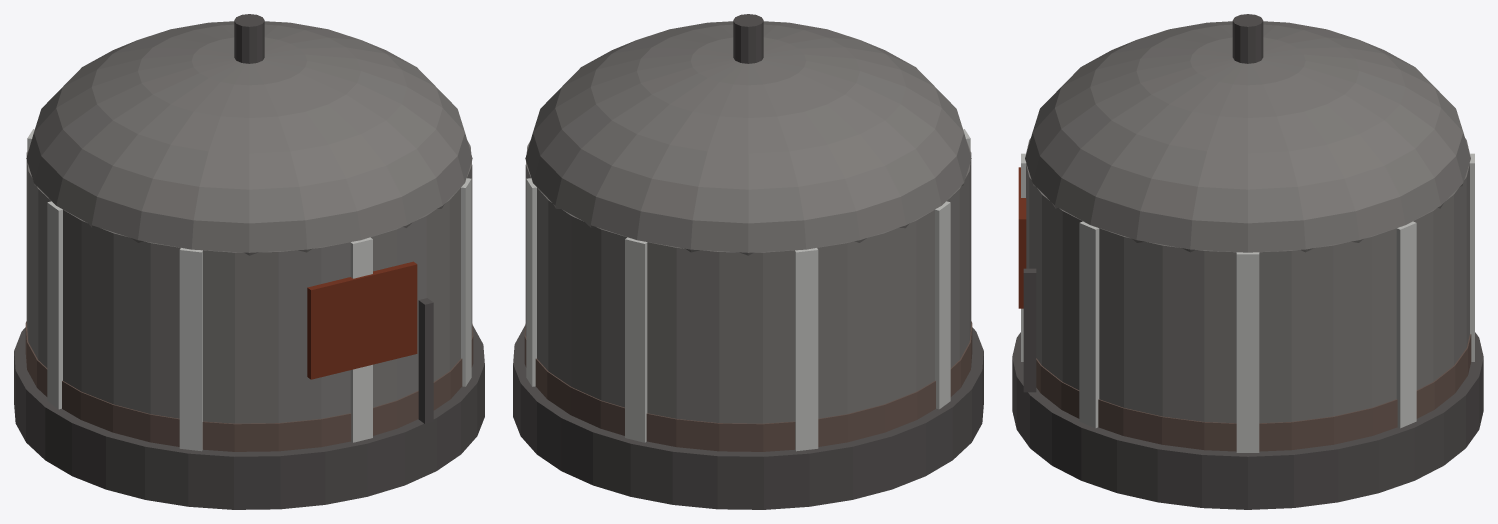
The model's file is storage_tank_2_kiln.glb.
3 views of the same model, side by side, from view 1: azimuth 30°, elevation 25°; view 2: azimuth 150°, elevation 25°; view 3: azimuth 270°, elevation 25° (orthographic).
Visible parts, largest first — view 1: Sphere, Cylinder.001, Cylinder, Cylinder.002, Cube.008, Cube.005, Cube.004, Cube.006, Cube.007, Cube.009, Cylinder.003; view 2: Sphere, Cylinder.001, Cylinder, Cylinder.002, Cube.003, Cube.002, Cube.004, Cube.001, Cylinder.003; view 3: Sphere, Cylinder.001, Cylinder, Cylinder.002, Cube, Cube.001, Cube.007, Cube.009, Cylinder.003, Cube.002, Cube.008.
Part boxes in pixels (x1,y1,x2,y2): Sphere: (26,21,472,255); Cylinder.001: (26,141,472,423); Cylinder: (14,325,484,509); Cylinder.002: (25,321,473,451); Cube.008: (307,261,417,379); Cube.005: (179,248,202,451); Cube.004: (47,201,62,409); Cube.006: (350,237,372,442); Cube.007: (461,178,471,386); Cube.009: (418,298,433,423); Cylinder.003: (234,14,264,63); Sphere: (525,21,971,255); Cylinder.001: (525,141,971,423); Cylinder: (513,325,983,509); Cylinder.002: (524,321,972,451); Cube.003: (795,248,818,451); Cube.002: (625,237,647,442); Cube.004: (935,201,950,409); Cube.001: (526,178,536,386); Cylinder.003: (733,14,763,63); Sphere: (1025,21,1470,252); Cylinder.001: (1026,138,1469,423); Cylinder: (1012,332,1483,509); Cylinder.002: (1036,334,1471,451); Cube: (1236,252,1259,452); Cube.001: (1396,221,1416,428); Cube.007: (1079,221,1099,428); Cube.009: (1023,268,1036,392); Cylinder.003: (1232,14,1263,63); Cube.002: (1469,153,1474,361); Cube.008: (1018,167,1026,308).
Size of the model in its own units: 18.5 by 16.88 by 18.5.
